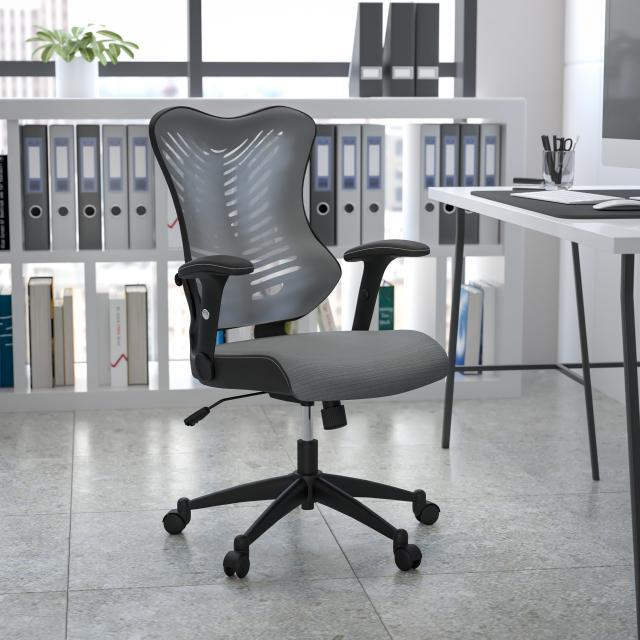chair: (109, 73, 491, 596)
